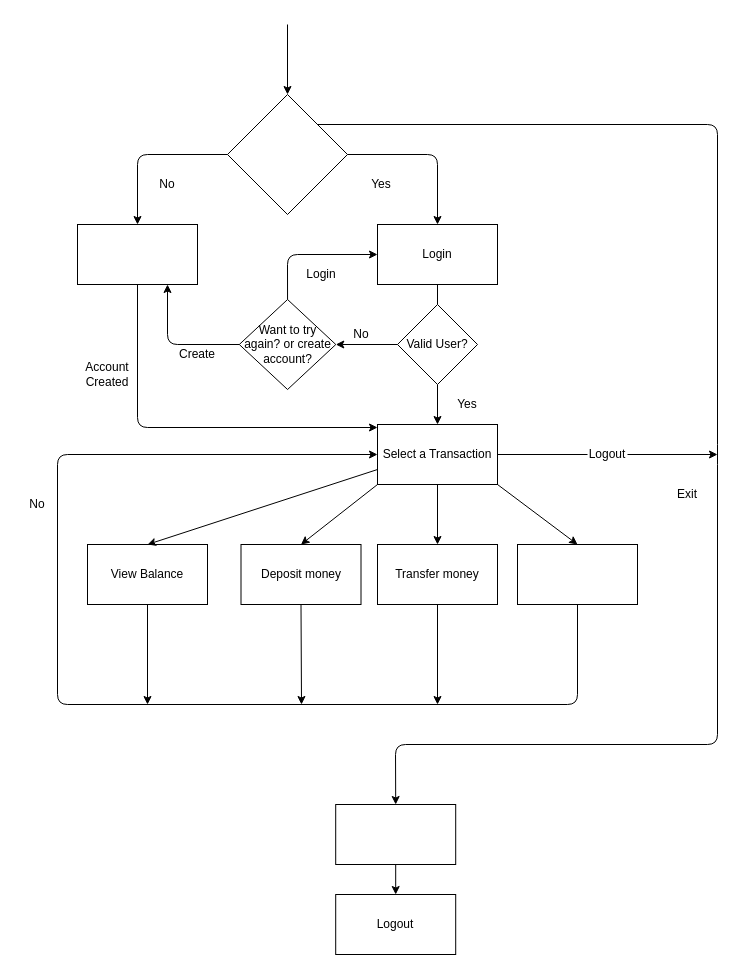
This 743x972 diagram has some shape labels left out. The centre of each missing label's shape, as x and y in pixels:
Create an account: the point at 137,254
Do you have an account?: the point at 287,154
Print Transaction History: the point at 395,834
Withdraw money: the point at 577,574
